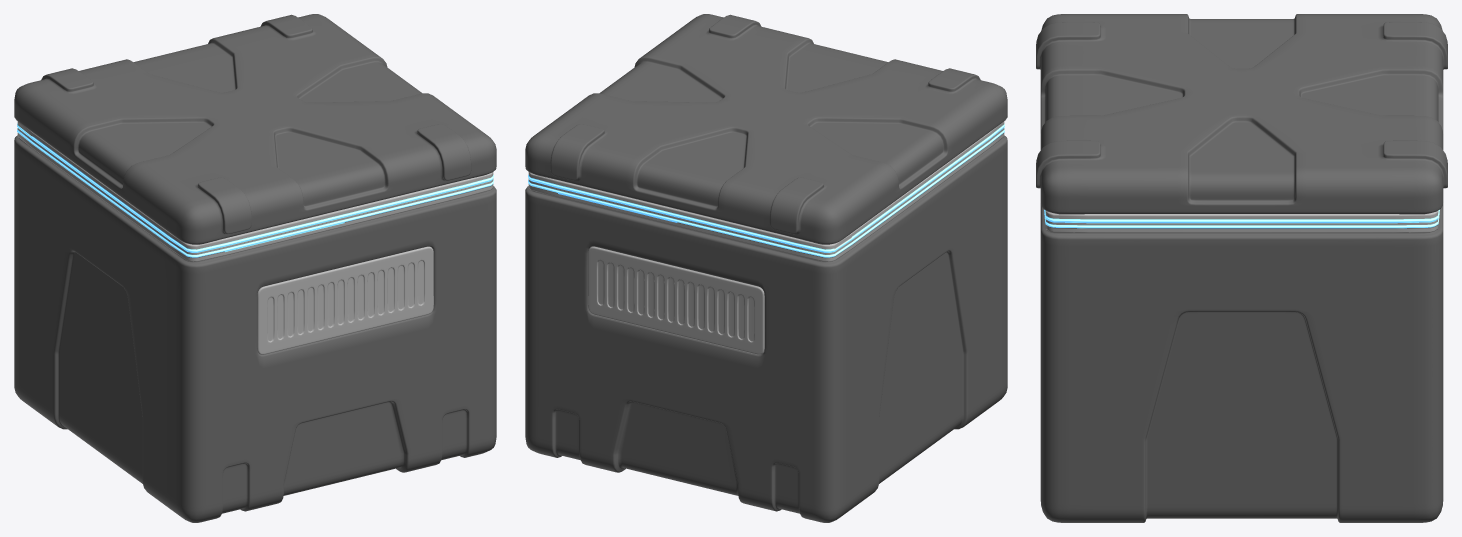
Rendered from Sci-fi Military Container.fbx.
3 views of the same model, side by side, from view 1: azimuth 30°, elevation 25°; view 2: azimuth 150°, elevation 25°; view 3: azimuth 270°, elevation 25° (orthographic). The views are drawn at different scales.
Parts seen in each view (by area): view 1: Sci-fi Container; view 2: Sci-fi Container; view 3: Sci-fi Container.
Part boxes in pixels (left/top/right/bottom): Sci-fi Container: left=14, top=14, right=496, bottom=522; Sci-fi Container: left=525, top=14, right=1007, bottom=522; Sci-fi Container: left=1036, top=14, right=1447, bottom=522.
Size of the model in its own units: 0.9196 by 0.8975 by 0.9409.
